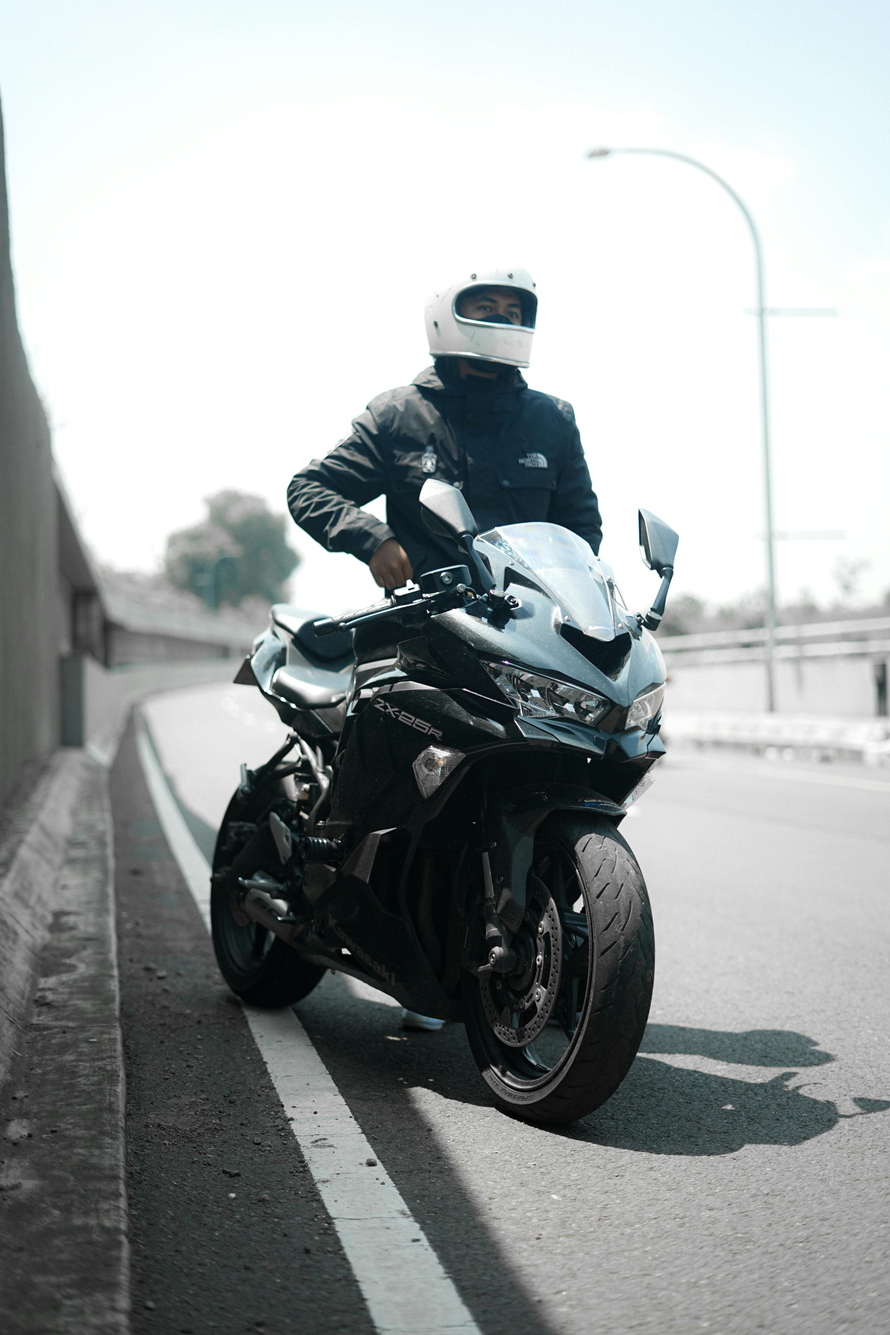Helmet: (425, 245, 552, 380)
